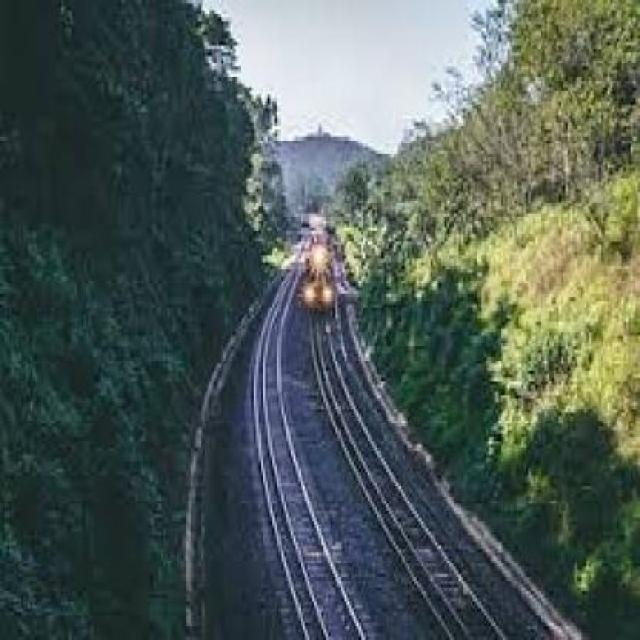danger: (289, 219, 348, 316)
rail: (240, 218, 540, 635)
